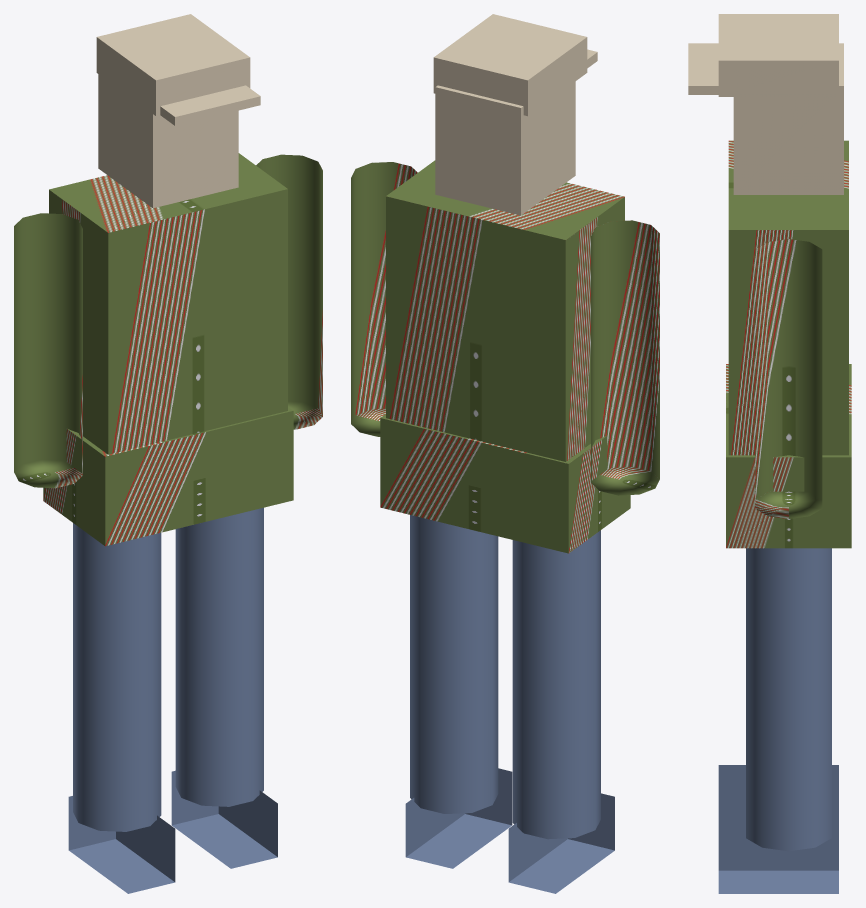
File: street_vendor_realistic.glb
The picture shows the model from 3 angles, left to right: view 1: azimuth 30°, elevation 25°; view 2: azimuth 150°, elevation 25°; view 3: azimuth 270°, elevation 25°; orthographic projection.
Parts seen in each view (by area): view 1: Vendor_Kurta, Vendor_Pants_Sandals, Vendor_Head; view 2: Vendor_Kurta, Vendor_Pants_Sandals, Vendor_Head; view 3: Vendor_Kurta, Vendor_Pants_Sandals, Vendor_Head.
Part boxes in pixels (x1,y1,x2,y2): Vendor_Kurta: [14, 153, 322, 546]; Vendor_Pants_Sandals: [68, 507, 277, 893]; Vendor_Head: [96, 14, 260, 208]; Vendor_Kurta: [351, 160, 659, 553]; Vendor_Pants_Sandals: [405, 515, 614, 893]; Vendor_Head: [433, 14, 597, 215]; Vendor_Kurta: [726, 140, 851, 548]; Vendor_Pants_Sandals: [718, 548, 838, 893]; Vendor_Head: [688, 14, 843, 194].
Bounding box in the file's own units: 0.7 × 1.8 × 0.325.
Materials: 3 (1 with a texture image).
